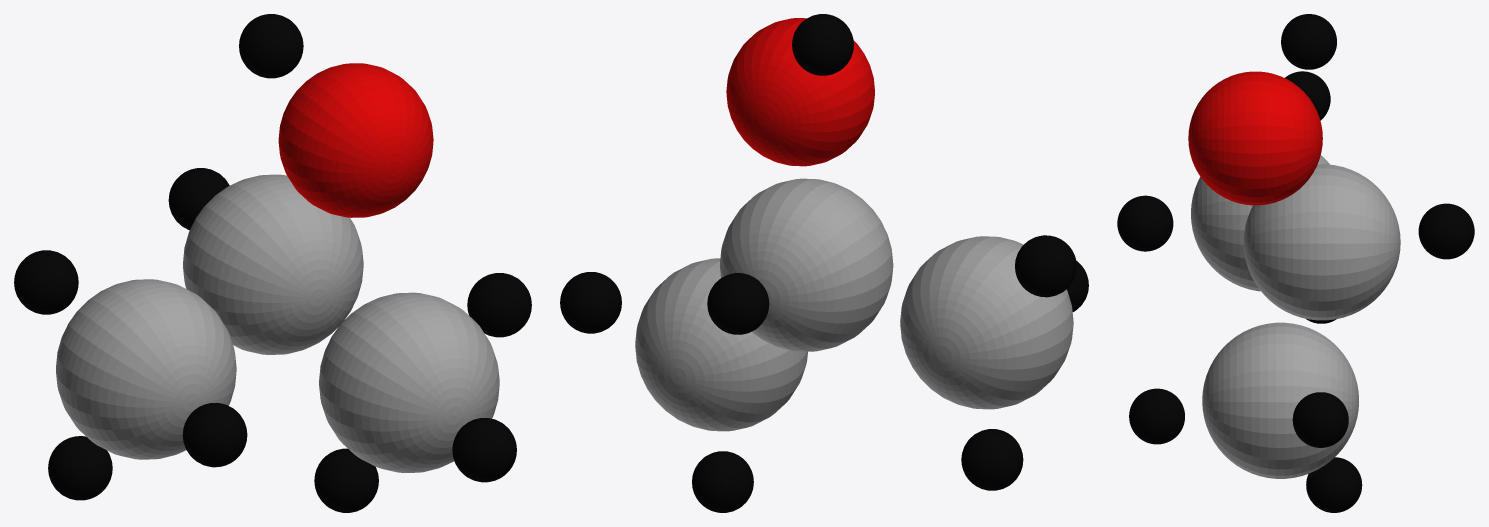
File: Isopropanol.glb
3 views of the same model, side by side, from view 1: azimuth 30°, elevation 25°; view 2: azimuth 150°, elevation 25°; view 3: azimuth 270°, elevation 25° (orthographic). The views are drawn at different scales.
Parts seen in each view (by area): view 1: world; view 2: world; view 3: world.
Boxes of the visible parts, x1,y1,x2,y2 form: world: [14, 14, 531, 512]; world: [560, 14, 1088, 512]; world: [1117, 14, 1474, 512].
Bounding box in the file's own units: 4.64 × 4.48 × 3.19.
